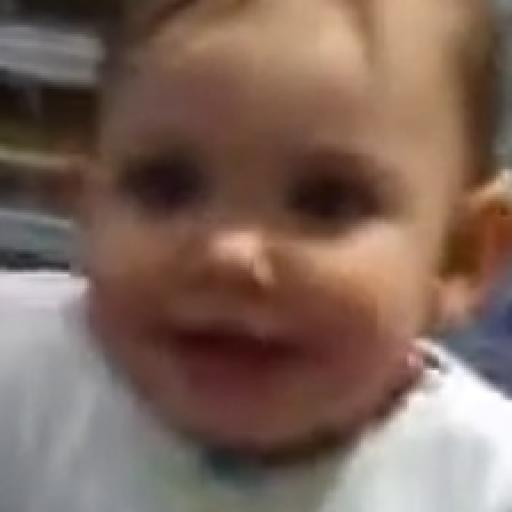Autism: (80, 27, 468, 488)
